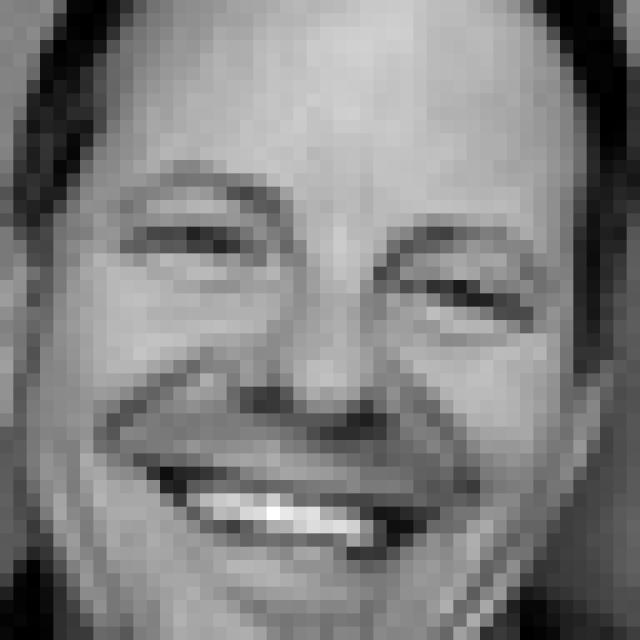happy: (101, 157, 558, 627)
